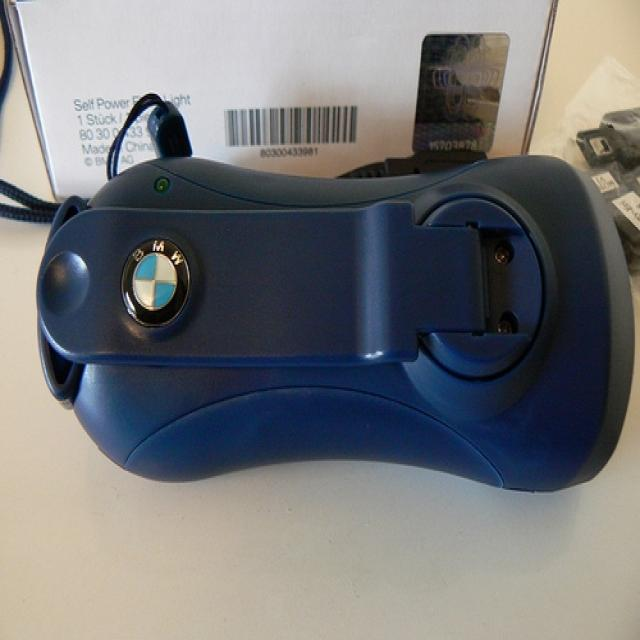bmw: (120, 233, 193, 330)
